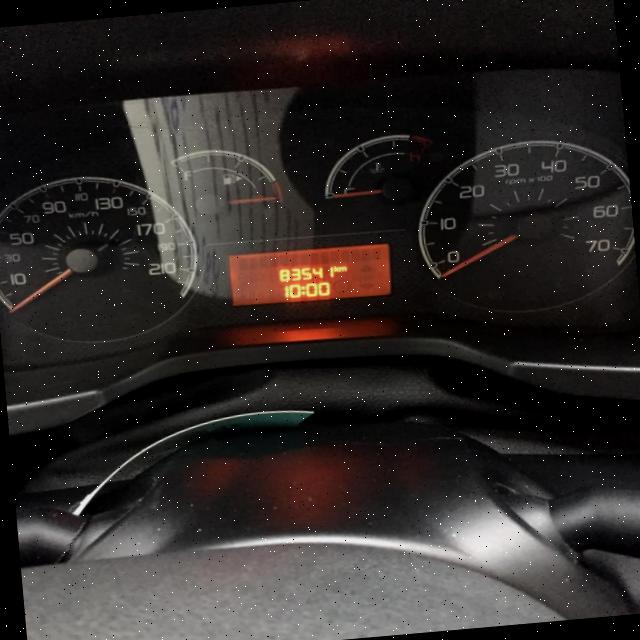odometer: (226, 238, 394, 308)
